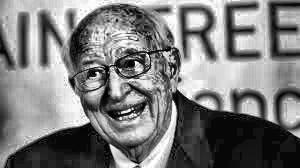happy: (57, 14, 209, 147)
